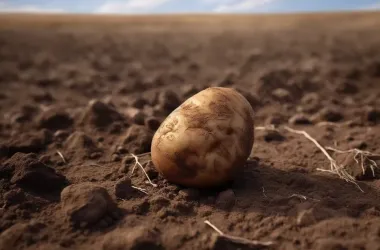potato: (135, 81, 271, 189)
